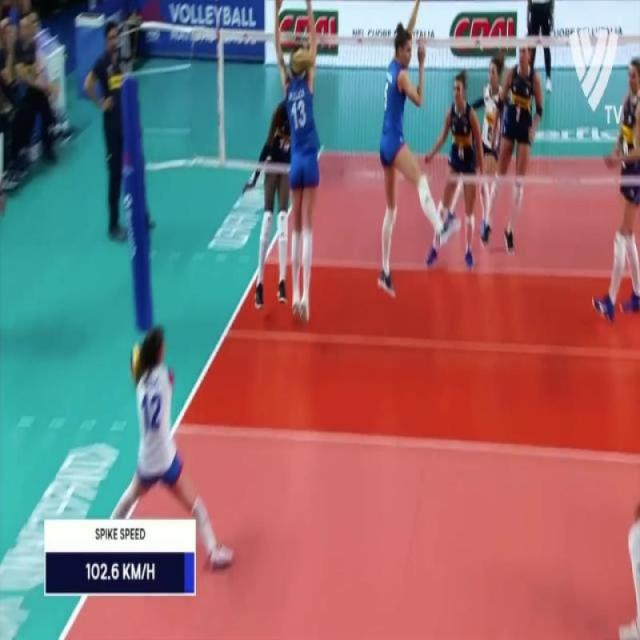volleyball: (131, 339, 147, 379)
